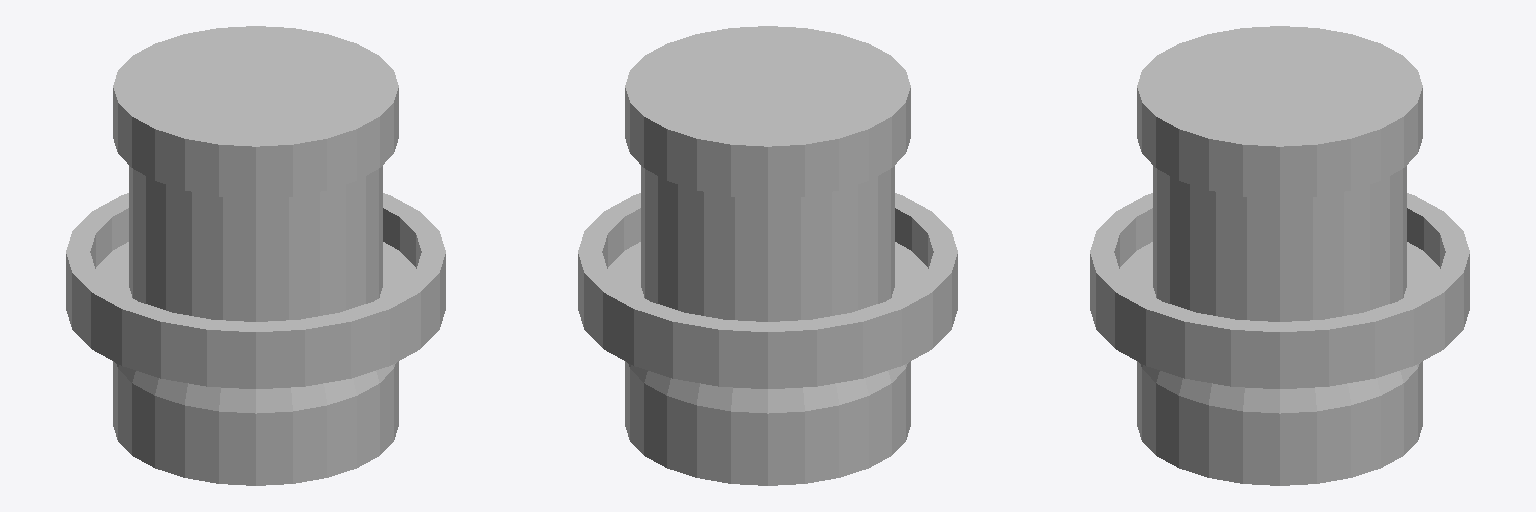
File: towerBalcony.obj
3 views of the same model, side by side, from view 1: azimuth 30°, elevation 25°; view 2: azimuth 150°, elevation 25°; view 3: azimuth 270°, elevation 25° (orthographic).
Parts seen in each view (by area): view 1: towerBalcony; view 2: towerBalcony; view 3: towerBalcony.
Part boxes in pixels (bbox=[...]): towerBalcony: bbox=[66, 26, 445, 485]; towerBalcony: bbox=[578, 26, 957, 485]; towerBalcony: bbox=[1090, 26, 1469, 485].
Bounding box in the file's own units: 13.3 × 13.1 × 13.3.